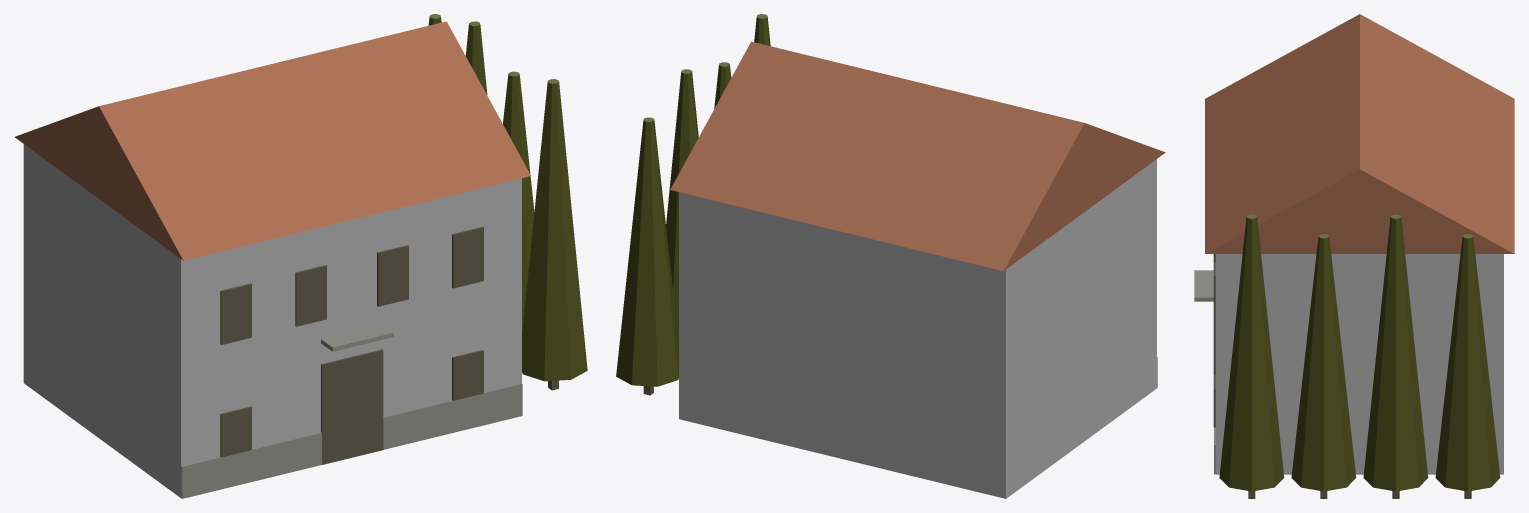
Rendered from SM_CasaLabor_v4_Cipreses_LOD0.fbx.
3 views of the same model, side by side, from view 1: azimuth 30°, elevation 25°; view 2: azimuth 150°, elevation 25°; view 3: azimuth 270°, elevation 25° (orthographic). The views are drawn at different scales.
Parts seen in each view (by area): view 1: SM_bloques.viveres_nules_v14_LOD0; view 2: SM_bloques.viveres_nules_v14_LOD0; view 3: SM_bloques.viveres_nules_v14_LOD0.
Part boxes in pixels (box(x1,y1,x2,y2)): SM_bloques.viveres_nules_v14_LOD0: box(15, 14, 587, 498); SM_bloques.viveres_nules_v14_LOD0: box(616, 14, 1165, 498); SM_bloques.viveres_nules_v14_LOD0: box(1194, 14, 1514, 498).
Bounding box in the file's own units: 12.5 × 9.4 × 8.9.
